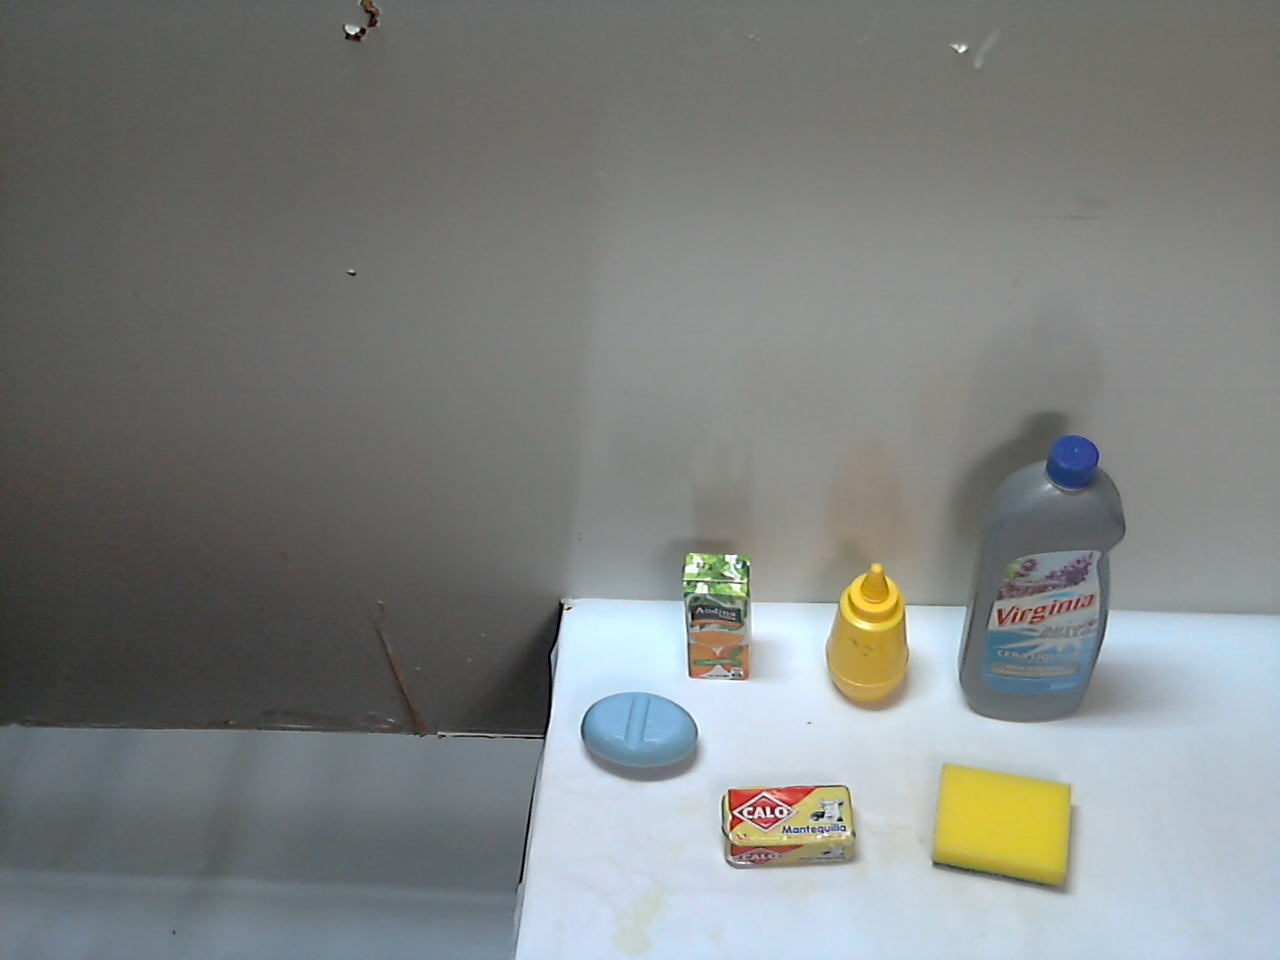cera: (910, 485, 1089, 782)
esponja: (660, 801, 811, 928)
jabon: (499, 779, 614, 889)
jugoind: (607, 604, 695, 754)
mantequilla: (841, 807, 996, 901)
mostaza: (763, 607, 858, 770)
